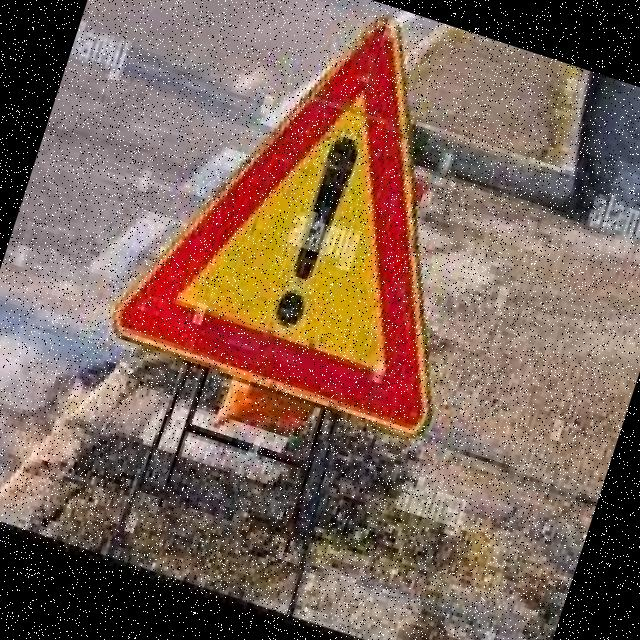warning: (101, 0, 556, 453)
